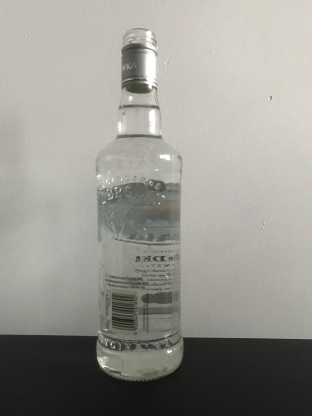nakretka: (119, 25, 159, 94)
